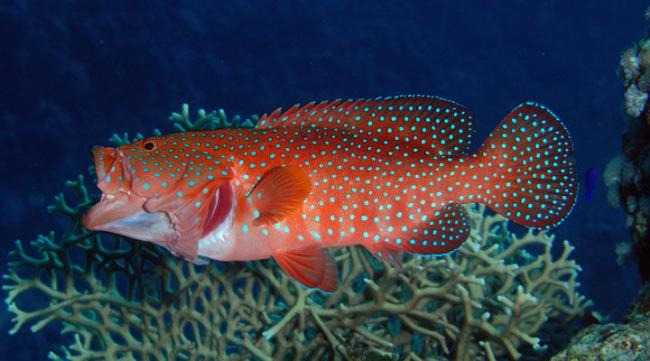fish: (83, 93, 582, 293)
